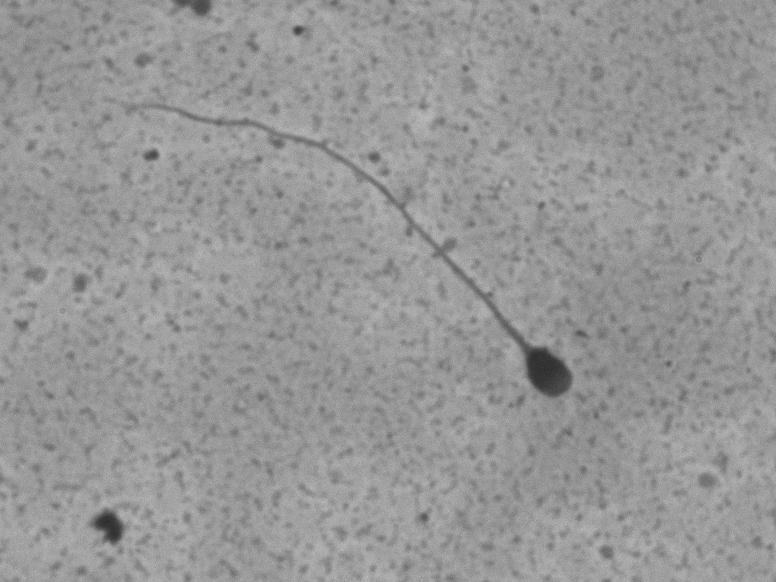Normal: (80, 88, 624, 420)
